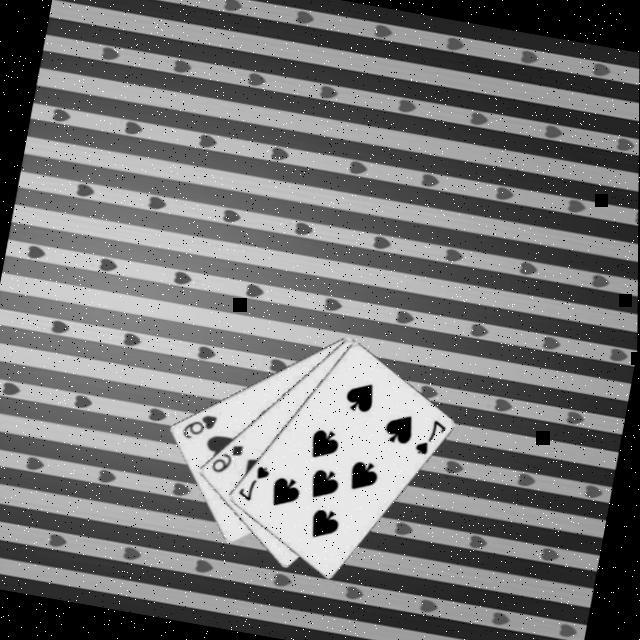6H: (177, 406, 220, 444)
7S: (233, 458, 273, 505), (410, 411, 449, 458)
9D: (206, 436, 246, 477)
